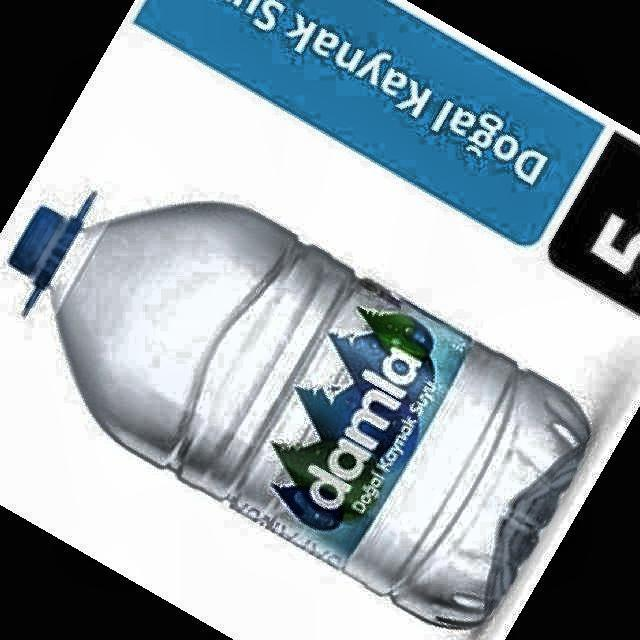plastic: (9, 204, 590, 626)
